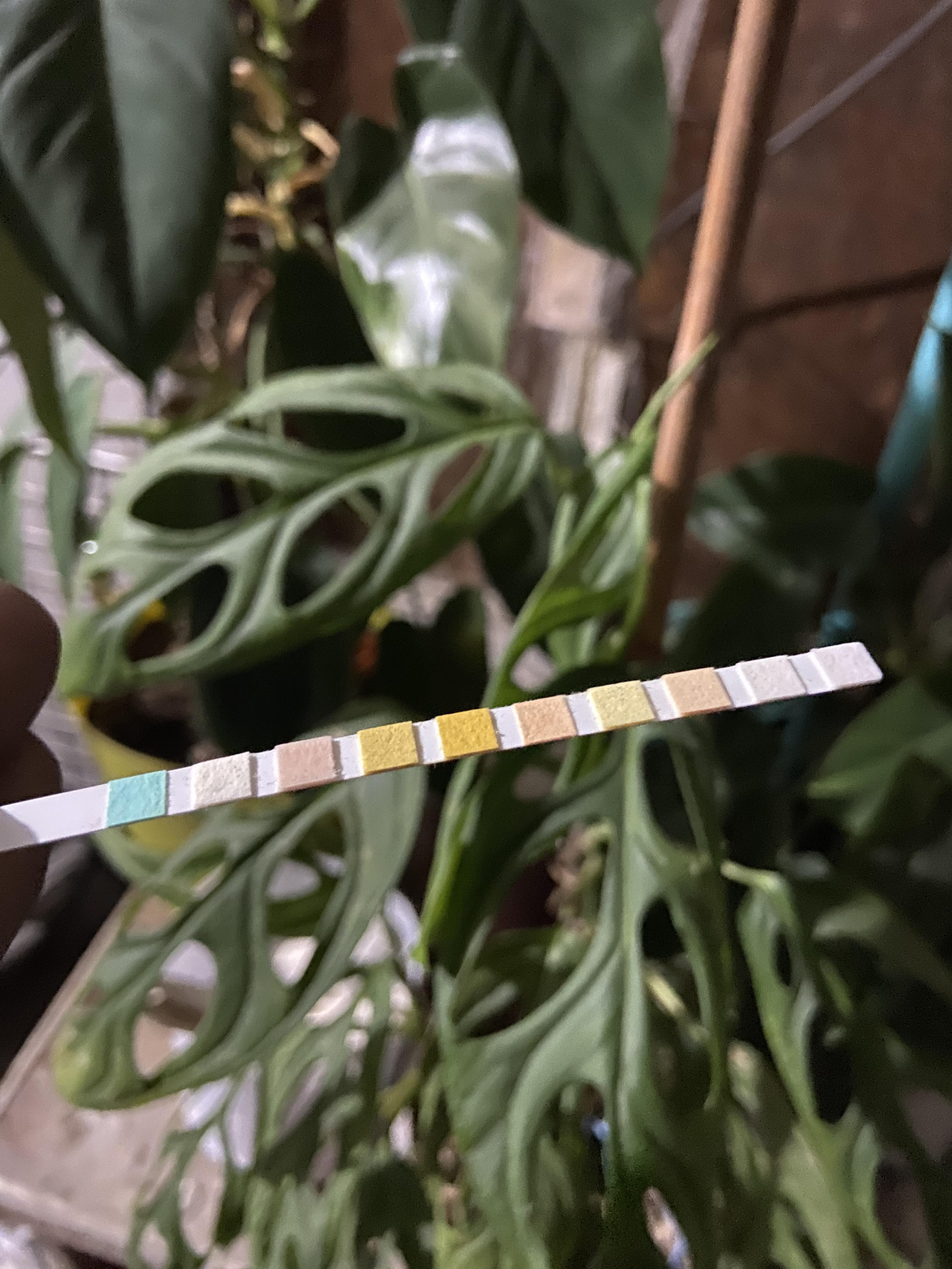Bilirubin: (197, 762, 248, 798)
Blood: (445, 717, 490, 750)
Glucose: (110, 781, 162, 815)
Ketone: (283, 746, 329, 779)
Leukocytes: (832, 648, 865, 683)
Nitrite: (753, 662, 789, 697)
Protein: (604, 685, 642, 720)
SpGravity: (365, 731, 410, 766)
Urobilinogen: (682, 673, 716, 709)
pH: (524, 703, 566, 736)
strip: (0, 640, 883, 852)
